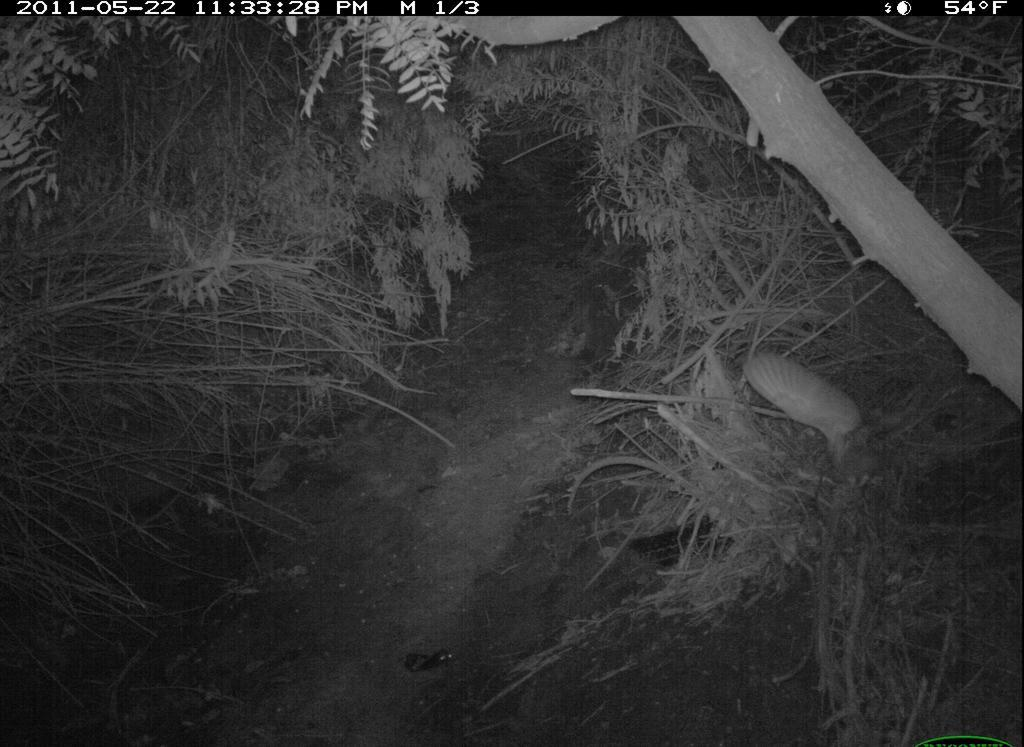bird: (719, 328, 899, 502)
